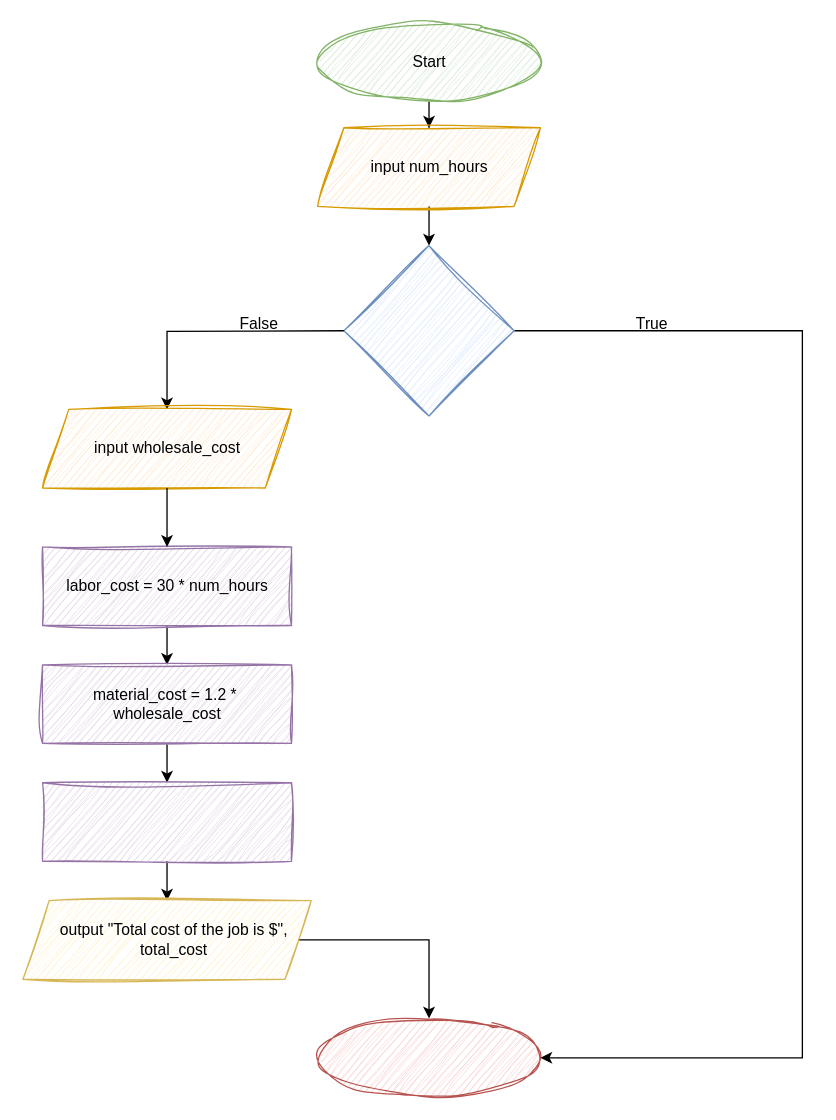
Image size: 836x1120. Some labels were removed from this diagram. Here are the shapes that lost their labels. From the top down, the centre of each, then its label:
the point at 428,330: num_hours = 0
the point at 166,821: total_cost = wholesale_cost + labor_cost
the point at 428,1057: End
